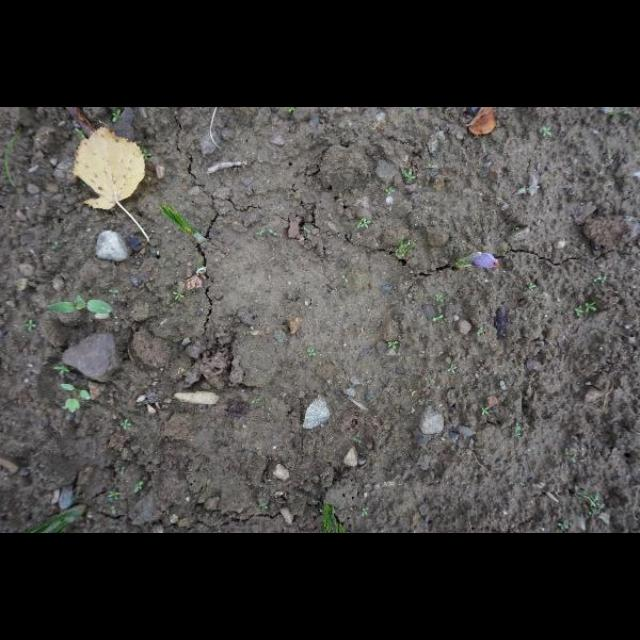flower: (472, 252, 500, 270)
